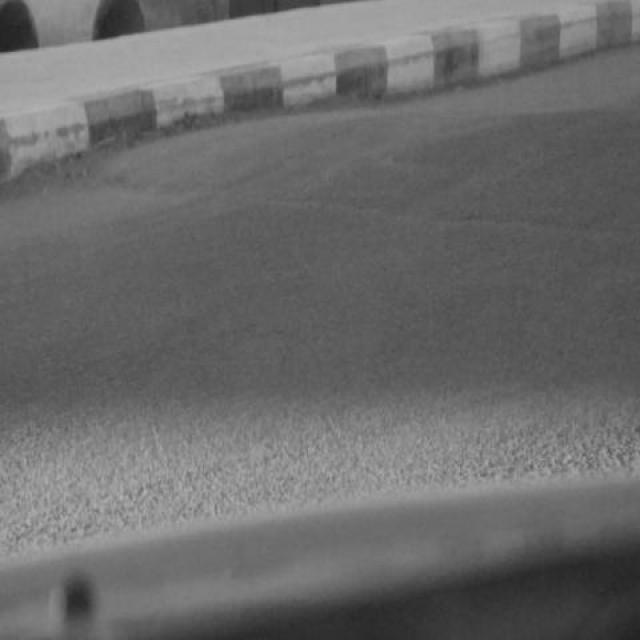Unmarked Bump: (284, 98, 639, 230), (90, 108, 285, 204)
